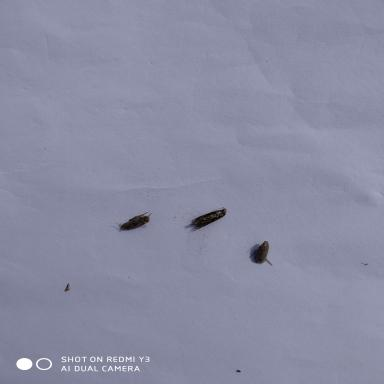pbw: (180, 205, 230, 234), (111, 209, 157, 233), (247, 238, 276, 269)
